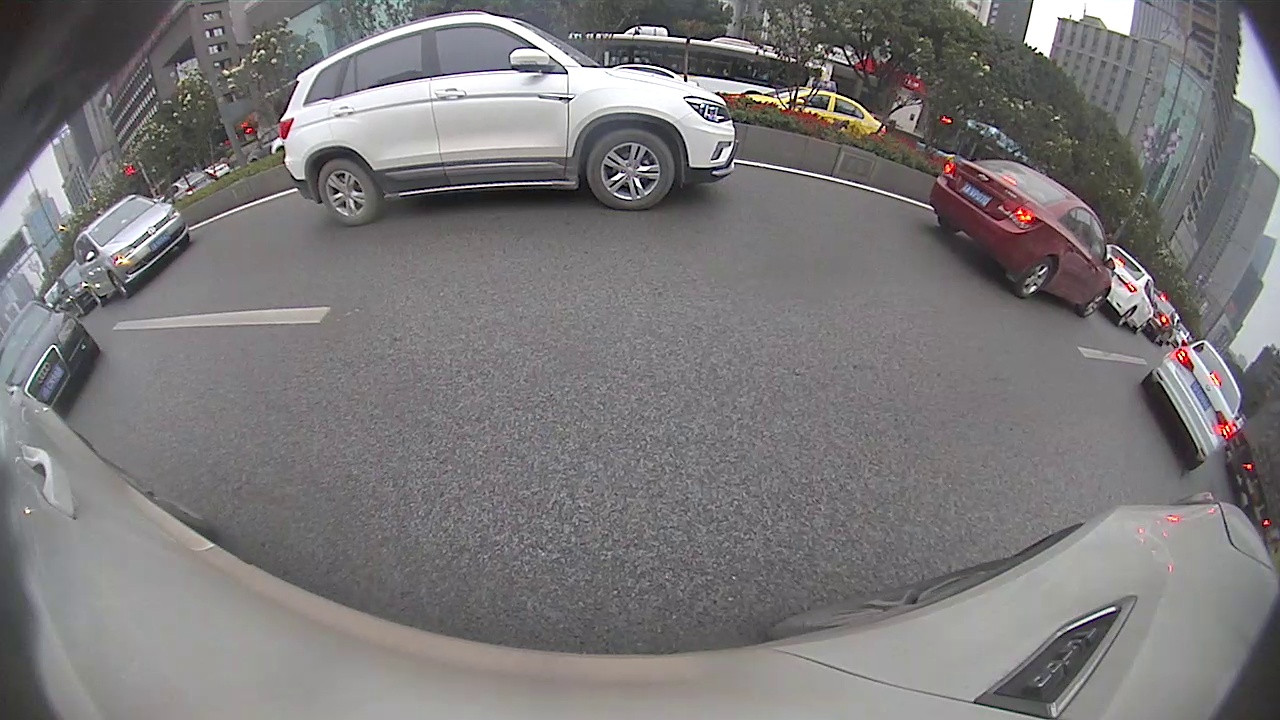car: (278, 9, 739, 228), (928, 153, 1118, 318), (1140, 339, 1245, 471), (71, 193, 191, 307), (1, 301, 103, 411), (1100, 242, 1165, 333)
front: (587, 131, 673, 210), (108, 271, 129, 300)
rear: (318, 159, 378, 225), (1017, 257, 1055, 298)
